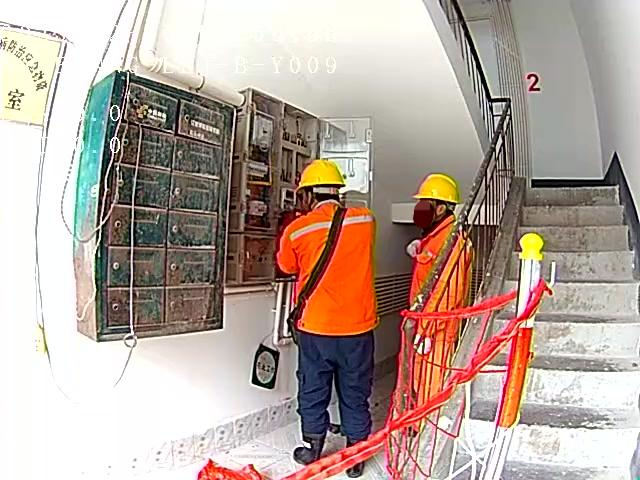halt: (415, 175, 464, 226), (299, 162, 350, 207), (522, 235, 549, 267)
inear: (433, 203, 451, 222)
